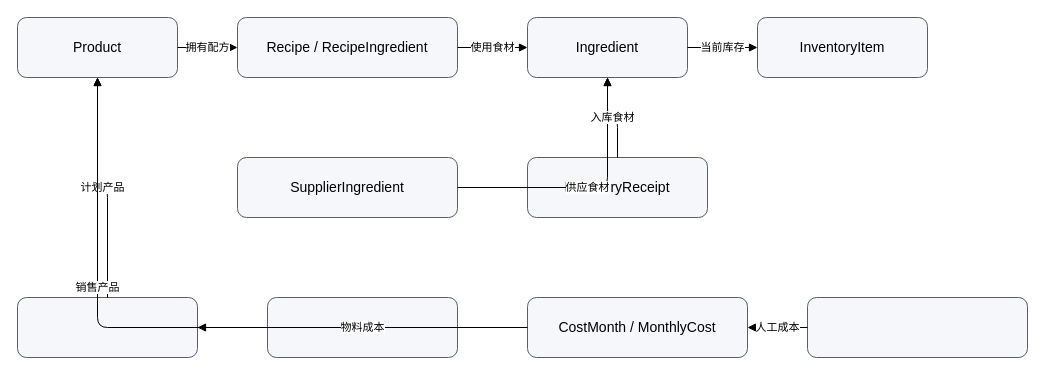
Some shapes in this 1045 by 375 pixel diagram are drawn without their labels. The centre of each missing label's shape, as x and y in pixels:
"Employee / ScheduleEntry" belongs at pixel 917 327.
"ProductionPlan" belongs at pixel 107 327.
"SalesOrder / Line" belongs at pixel 362 327.
